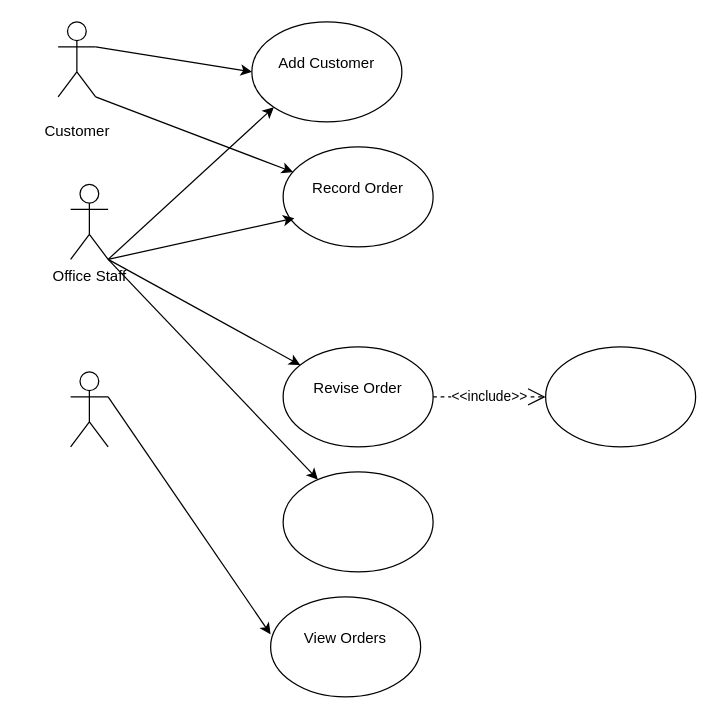
Image size: 718x719. Some labels were removed from this diagram. Each missing label, with the centre of its shape:
"Generate Invoice" goes at (x=620, y=396).
"Print/Email Invoice" goes at (x=357, y=521).
"Production Manager" goes at (x=88, y=409).
